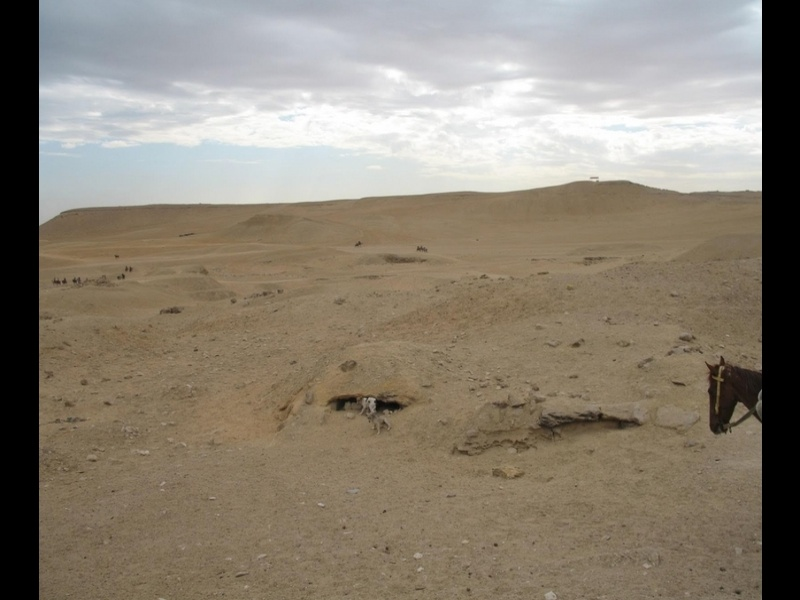dog: (354, 392, 382, 418), (367, 411, 394, 433)
